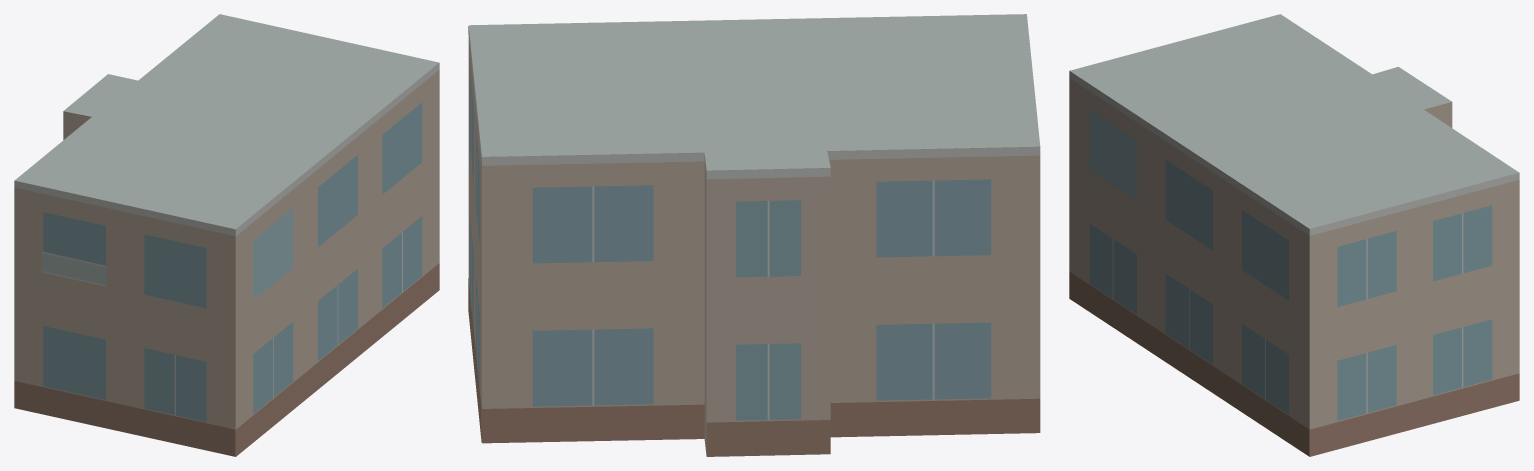
The model's file is survey-upis-32621818.glb.
3 views of the same model, side by side, from view 1: azimuth 30°, elevation 25°; view 2: azimuth 150°, elevation 25°; view 3: azimuth 270°, elevation 25° (orthographic). The views are drawn at different scales.
Parts seen in each view (by area): view 1: survey-upis-32621818.tmp; view 2: survey-upis-32621818.tmp; view 3: survey-upis-32621818.tmp.
Boxes of the visible parts, x1,y1,x2,y2 form: survey-upis-32621818.tmp: [14, 14, 439, 456]; survey-upis-32621818.tmp: [468, 14, 1040, 456]; survey-upis-32621818.tmp: [1069, 14, 1519, 456].
Size of the model in its own units: 16.09 by 7.95 by 14.24.
